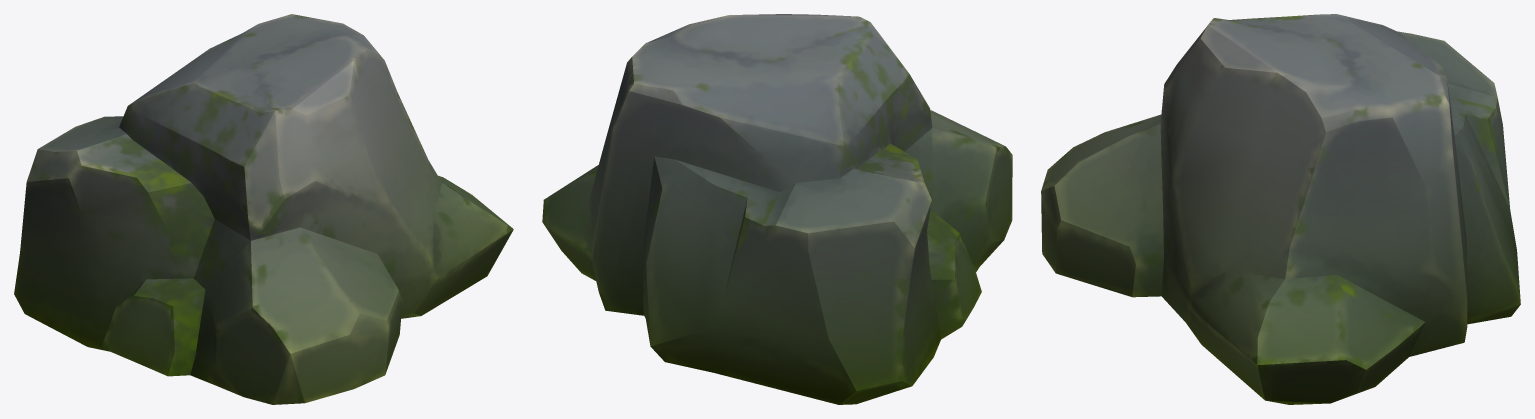
Rendered from Rock_Medium_4.gltf.
3 views of the same model, side by side, from view 1: azimuth 30°, elevation 25°; view 2: azimuth 150°, elevation 25°; view 3: azimuth 270°, elevation 25° (orthographic). The views are drawn at different scales.
Visible parts, largest first — view 1: Rock_Medium_4; view 2: Rock_Medium_4; view 3: Rock_Medium_4.
Part boxes in pixels (left/top/right/bottom): Rock_Medium_4: left=14, top=14, right=513, bottom=404; Rock_Medium_4: left=542, top=14, right=1012, bottom=404; Rock_Medium_4: left=1041, top=14, right=1520, bottom=404.
Bounding box in the file's own units: 3.78 × 2.48 × 3.61.
Materials: 1 (1 with a texture image).
